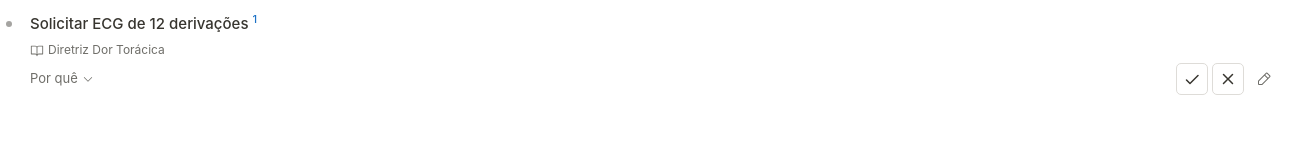
Scenario: RecommendationItem — plano em uma tela › abre a justificativa só em Por quê
Check: the text "Dor torácica aguda com fatores de risco cardiovascular" is not shown
What coordinates should you click on to do the following:
click the button "Por quê"
I would click on:
 (62, 79)
Its box is x1=26 y1=65 x2=98 y2=92.
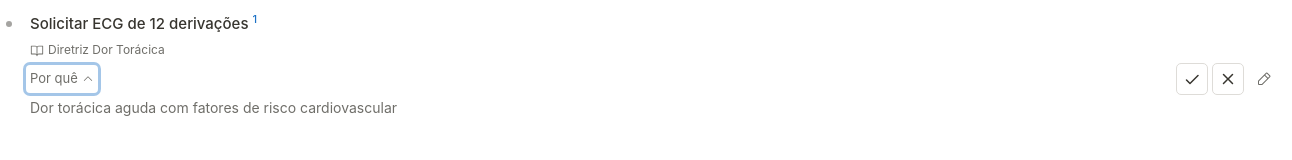
Check: the text "Dor torácica aguda com fatores de risco cardiovascular" is shown, box x1=30 y1=99 x2=397 y2=116
